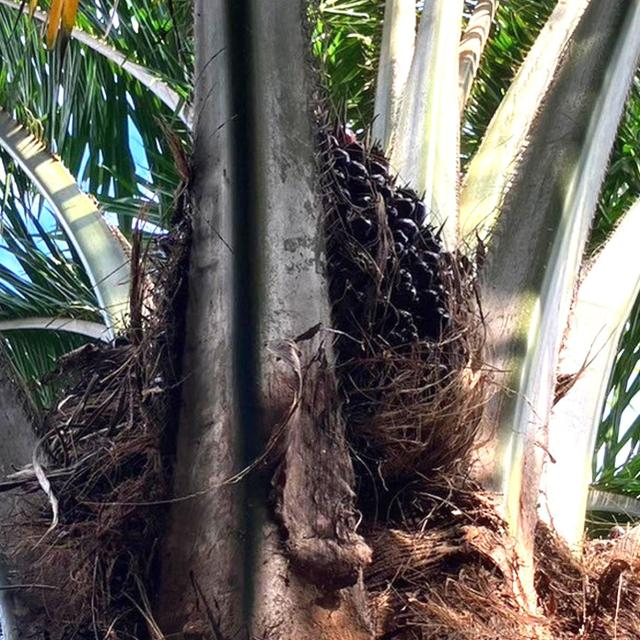ripe: (315, 126, 481, 442)
